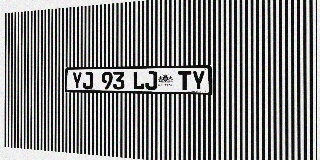plate: (65, 65, 212, 95)
